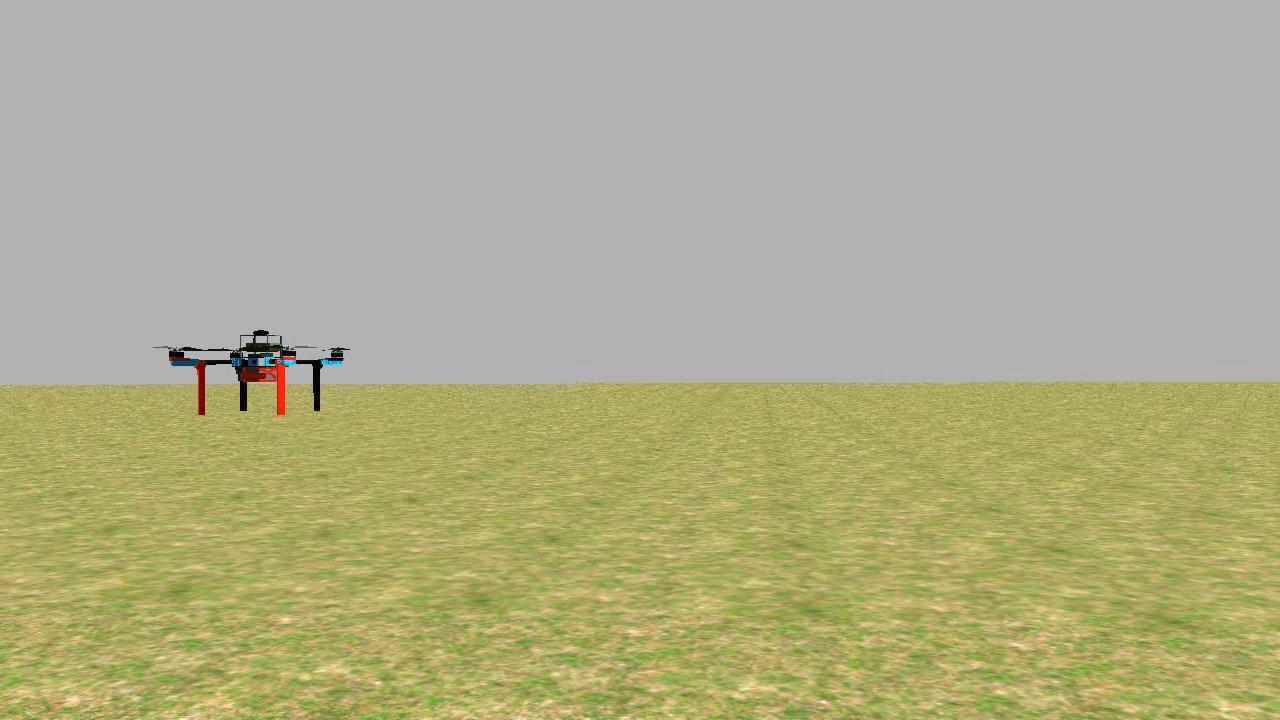UAV: (163, 307, 351, 436)
